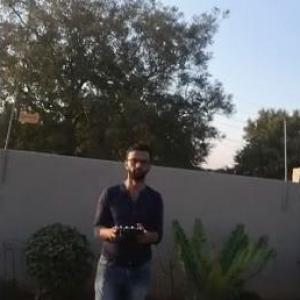follow: (87, 136, 169, 299)
